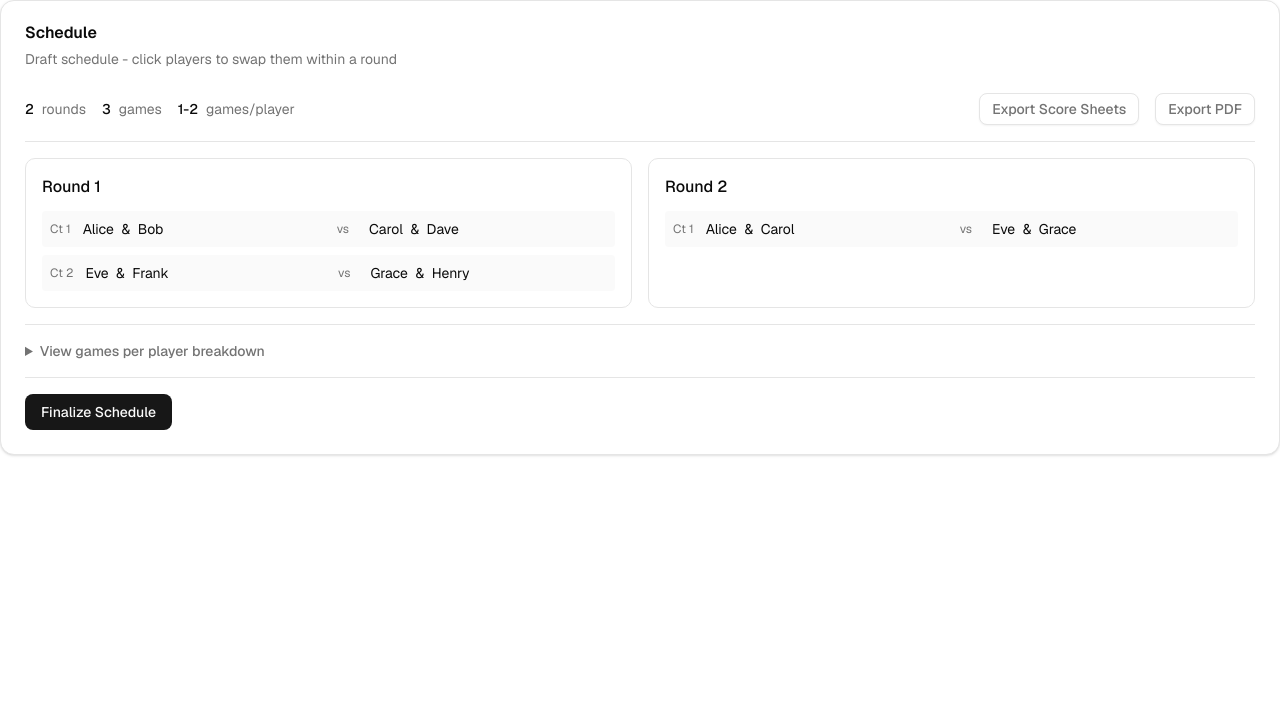
it: ScheduleViewer - Swap Mode › clicking player on draft schedule enters swap mode
The image size is (1280, 720).
Find and click a player name
Click the 1st button "Alice": (98, 229) top-left (83, 220), bottom-right (114, 238)
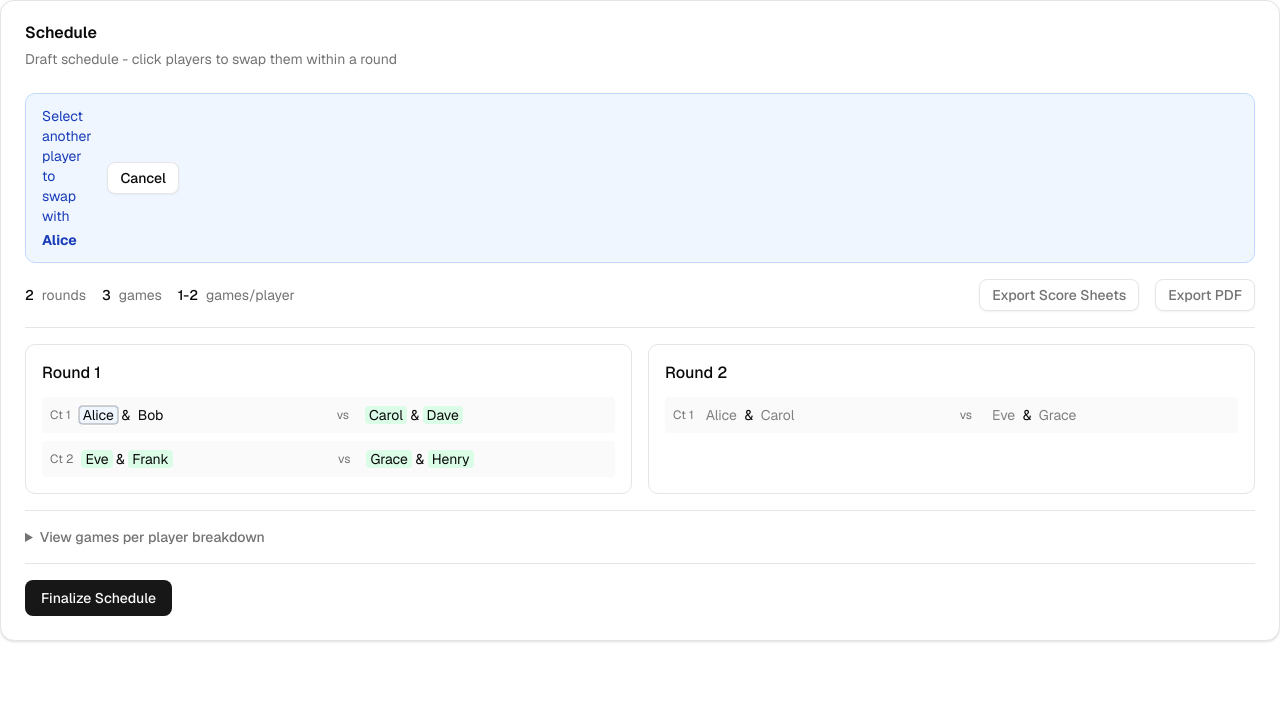
Expected: the element with test id "swap-banner" is shown, top-left (25, 93), bottom-right (1255, 263)
